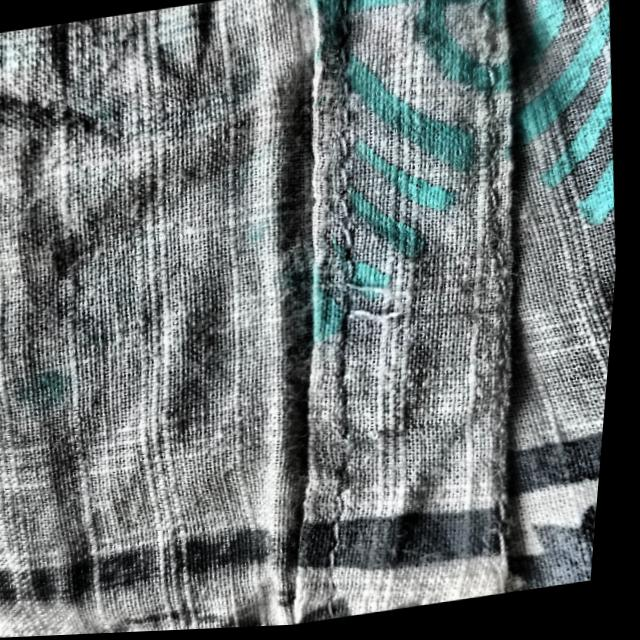Stitch: (329, 248, 442, 335)
